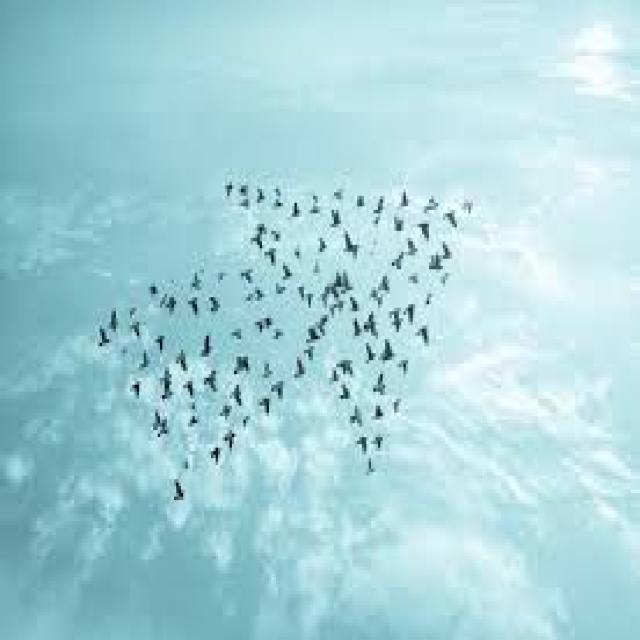bird: (227, 346, 253, 381), (456, 187, 482, 222), (148, 409, 172, 444), (371, 188, 392, 228), (288, 348, 310, 386), (343, 227, 364, 266), (360, 332, 380, 370), (242, 228, 270, 255), (388, 302, 407, 338), (377, 336, 398, 368), (169, 472, 188, 507), (203, 442, 226, 470), (346, 396, 366, 428), (424, 248, 448, 273), (197, 334, 218, 362), (255, 390, 276, 418), (422, 187, 443, 215), (320, 274, 336, 310), (368, 371, 389, 398), (189, 259, 205, 294), (205, 288, 224, 316), (316, 223, 332, 256), (238, 260, 258, 286), (186, 296, 204, 324), (98, 315, 111, 353), (313, 309, 332, 334), (394, 190, 415, 212), (227, 320, 246, 344), (325, 201, 343, 226), (109, 306, 123, 338), (205, 365, 219, 397), (174, 344, 190, 372), (137, 346, 153, 374), (228, 381, 244, 409), (222, 423, 238, 451), (302, 320, 318, 348), (326, 364, 342, 392), (349, 314, 365, 342), (415, 318, 431, 346), (406, 232, 422, 260), (220, 174, 237, 200), (128, 320, 148, 341), (158, 381, 178, 402), (338, 380, 353, 408), (368, 285, 383, 313), (367, 313, 382, 341), (183, 376, 200, 400), (391, 215, 407, 240), (444, 206, 460, 231), (154, 327, 168, 355), (363, 454, 377, 482), (128, 376, 144, 400), (355, 432, 371, 456), (271, 378, 290, 398), (402, 297, 417, 322), (310, 191, 322, 222), (437, 245, 463, 259), (332, 268, 347, 292), (372, 432, 389, 453), (250, 316, 266, 338), (280, 260, 296, 282), (390, 248, 406, 270), (252, 285, 266, 310), (145, 278, 161, 299), (238, 175, 254, 196), (291, 198, 305, 222), (272, 278, 288, 299), (300, 341, 316, 362), (390, 395, 406, 416), (272, 184, 286, 208), (377, 271, 393, 292), (398, 355, 414, 376), (260, 356, 272, 382), (253, 182, 264, 210), (166, 294, 180, 315), (266, 245, 280, 266), (344, 278, 358, 299), (159, 364, 175, 382), (217, 402, 233, 420), (242, 286, 258, 304), (235, 198, 254, 212), (304, 288, 316, 310), (268, 220, 280, 242), (241, 409, 253, 430), (372, 402, 384, 423), (418, 220, 432, 238), (266, 306, 276, 331), (356, 187, 366, 212), (296, 282, 308, 302), (332, 296, 344, 316), (292, 242, 304, 262), (187, 411, 200, 428), (216, 268, 227, 282), (130, 299, 137, 320), (272, 328, 284, 339)
